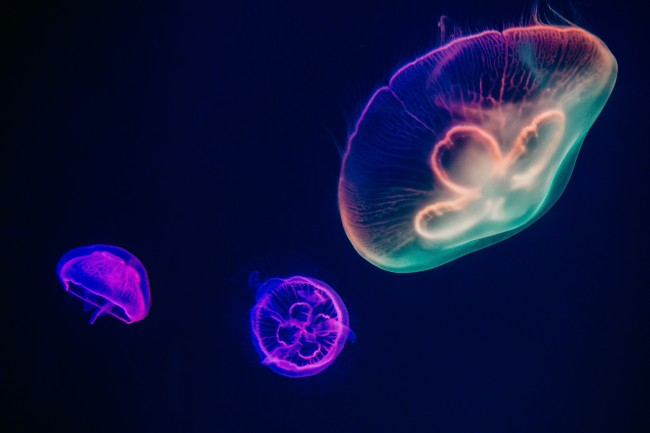jellyfish: (319, 10, 619, 274), (236, 264, 374, 385), (42, 241, 170, 334)
